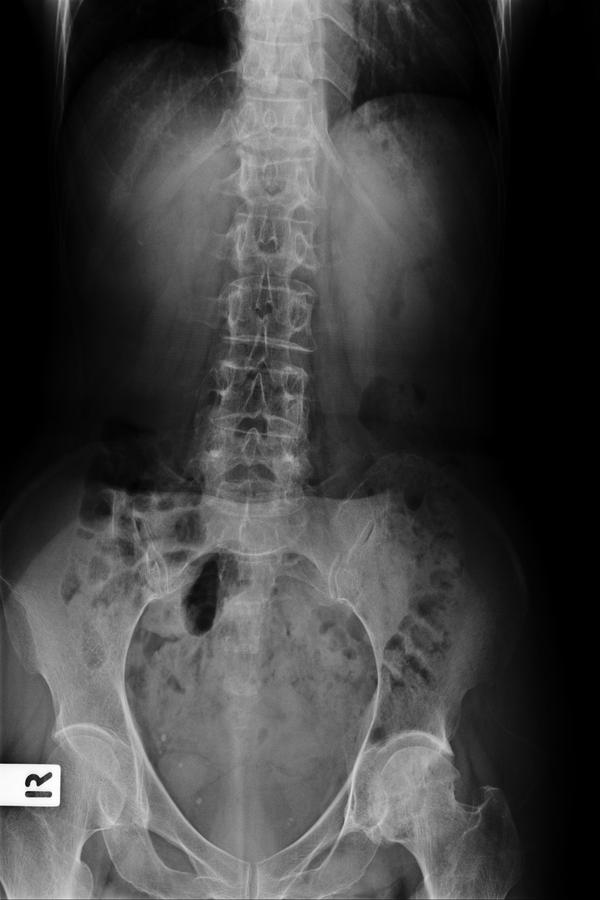lumbar scoliosis: (183, 148, 344, 538)
